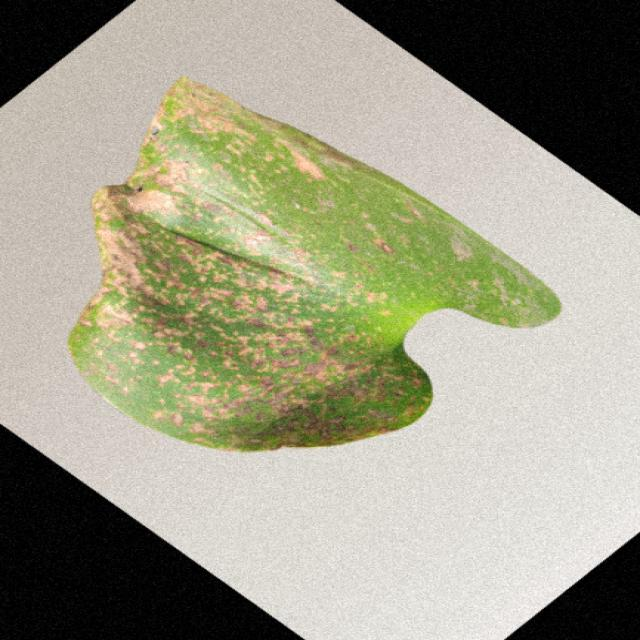daun berpenyakit bercak: (70, 78, 560, 452)
